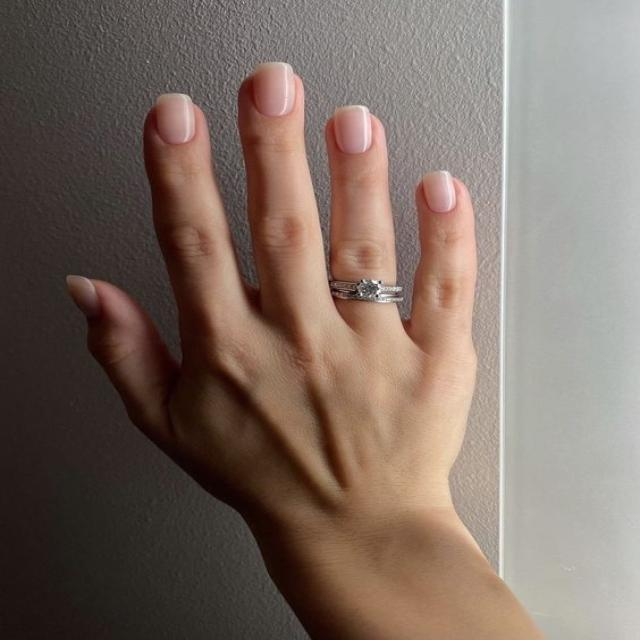Fingernail: (252, 62, 296, 116), (156, 93, 193, 144), (336, 106, 370, 154), (66, 274, 101, 320), (422, 170, 457, 214)
